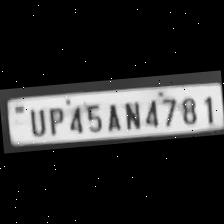1: (198, 92, 220, 125)
4: (139, 96, 161, 129), (63, 104, 84, 136)
5: (81, 100, 104, 134)
7: (156, 94, 178, 128)
8: (176, 94, 200, 128)
A: (101, 100, 122, 132)
N: (119, 98, 142, 131)
P: (42, 104, 65, 136)
U: (23, 105, 48, 138)
